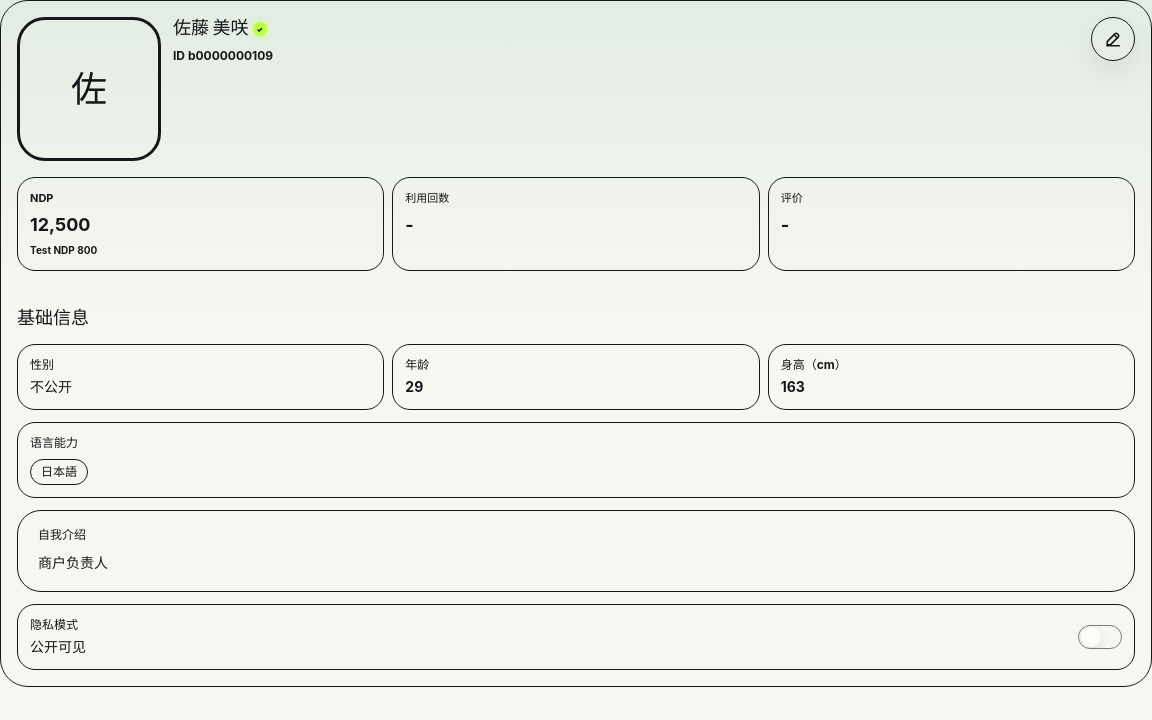
Test: MerchantIdentityInfoCard › copies the formal merchant ID through the PWA-safe clipboard helper
The width and height of the screenshot is (1152, 720).
What coordinates should you click on to do the following:
click the button with aria-label "复制 NeeDo ID"
I would click on:
 (231, 55)
Its box is [173,48,1091,64].
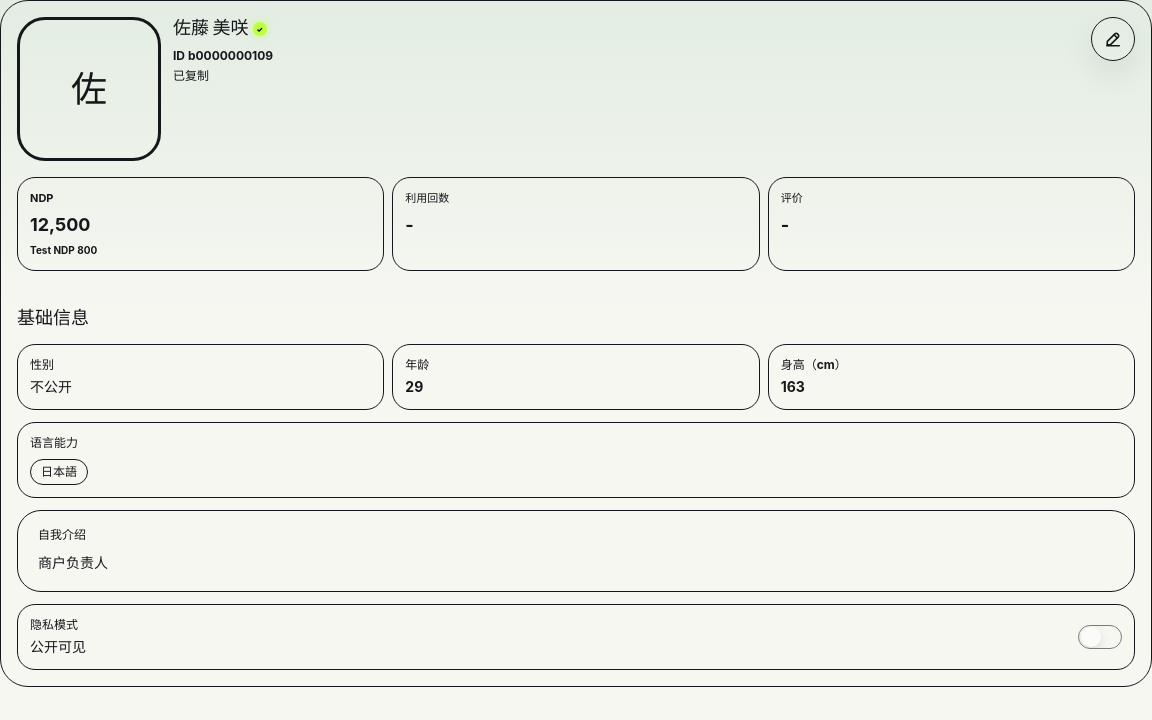
Now the text "已复制" is shown, box [173,68,209,82]
